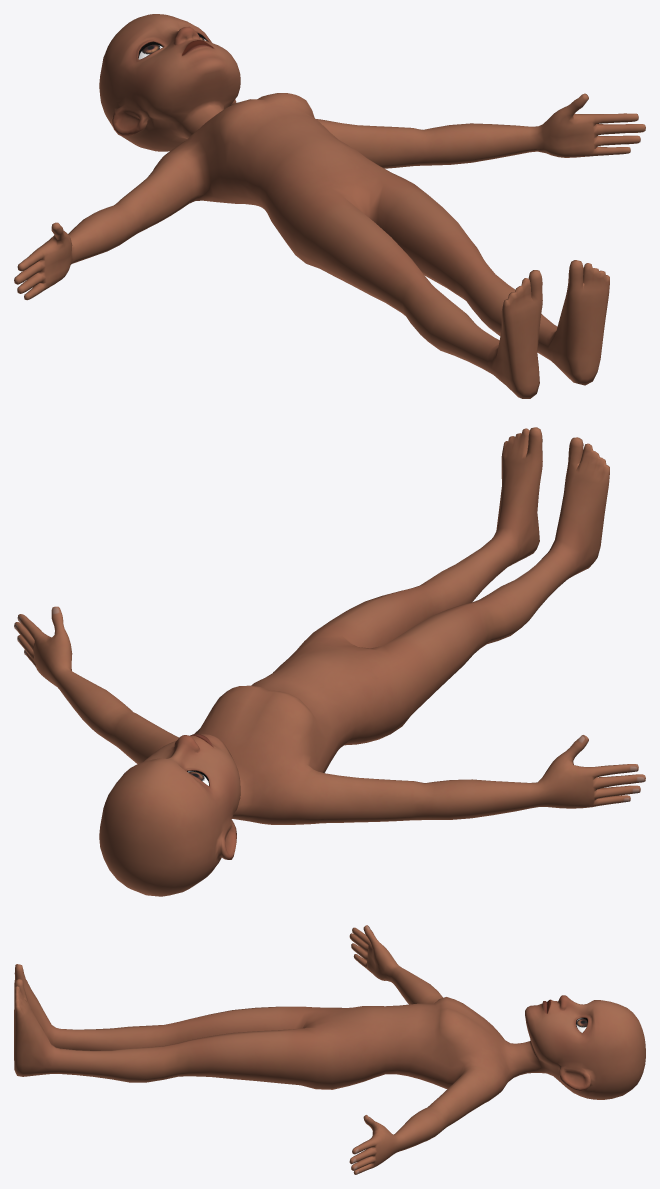
Rendered from frame_0001.glb.
3 renders of one model, top to bottom at view 1: azimuth 30°, elevation 25°; view 2: azimuth 150°, elevation 25°; view 3: azimuth 270°, elevation 25°, orthographic. The views are drawn at different scales.
Parts seen in each view (by area): view 1: head_geo_frozen; view 2: head_geo_frozen; view 3: head_geo_frozen.
Part boxes in pixels (left/top/right/bottom): head_geo_frozen: left=14, top=14, right=645, bottom=398; head_geo_frozen: left=14, top=427, right=645, bottom=896; head_geo_frozen: left=14, top=925, right=645, bottom=1174.
Bounding box in the file's own units: 128 × 32.78 × 150.
Materials: 4 (4 with a texture image).
